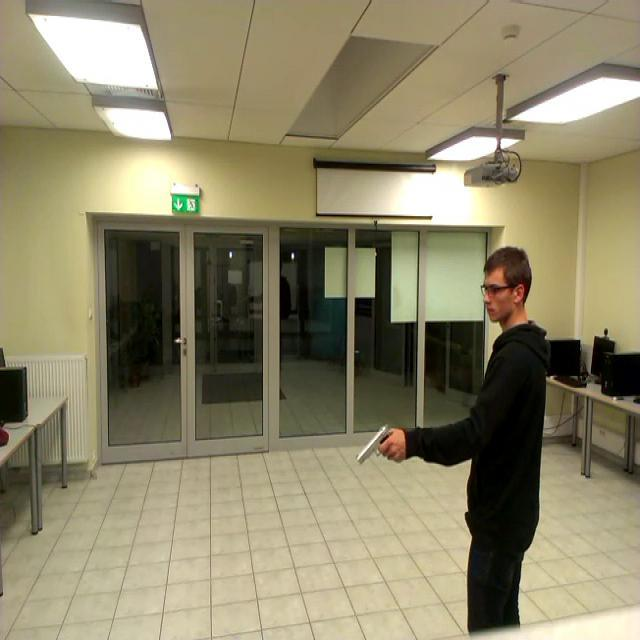Gun: (356, 423, 397, 463)
